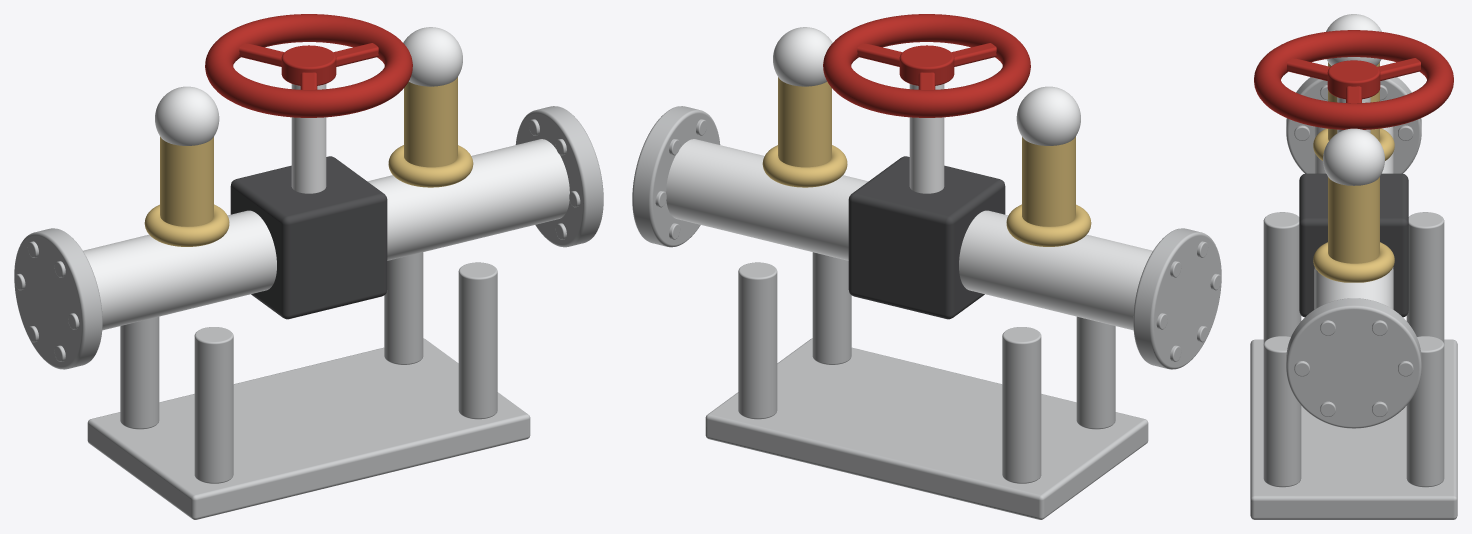
File: valve_manifold.glb
3 renders of one model, left to right at view 1: azimuth 30°, elevation 25°; view 2: azimuth 150°, elevation 25°; view 3: azimuth 270°, elevation 25°, orthographic. The views are drawn at different scales.
Visible parts, largest first — view 1: mount_plate, main_pipe, valve_body, handwheel_rim, flange_0, standoff_1, standoff_0, flange_1, riser_0, riser_1, standoff_2, standoff_3 (+8 smaller); view 2: mount_plate, main_pipe, valve_body, handwheel_rim, flange_0, standoff_3, standoff_2, flange_1, riser_0, riser_1, standoff_0, standoff_1 (+8 smaller); view 3: mount_plate, flange_1, handwheel_rim, valve_body, standoff_1, standoff_3, standoff_0, standoff_2, riser_1, flange_0, riser_cap_1, main_pipe (+8 smaller).
Boxes of the visible parts, left/top/right/bottom form: mount_plate: left=87, top=338, right=530, bottom=519; main_pipe: left=83, top=139, right=569, bottom=330; valve_body: left=230, top=156, right=387, bottom=319; handwheel_rim: left=205, top=14, right=412, bottom=117; flange_0: left=14, top=228, right=102, bottom=369; standoff_1: left=458, top=262, right=497, bottom=419; standoff_0: left=194, top=327, right=233, bottom=483; flange_1: left=515, top=106, right=603, bottom=247; riser_0: left=160, top=136, right=213, bottom=226; riser_1: left=404, top=77, right=457, bottom=167; standoff_2: left=120, top=316, right=159, bottom=429; standoff_3: left=384, top=252, right=423, bottom=364; mount_plate: left=705, top=338, right=1148, bottom=519; main_pipe: left=666, top=139, right=1152, bottom=330; valve_body: left=848, top=156, right=1005, bottom=319; handwheel_rim: left=823, top=14, right=1030, bottom=117; flange_0: left=1133, top=228, right=1221, bottom=369; standoff_3: left=738, top=262, right=777, bottom=419; standoff_2: left=1002, top=327, right=1041, bottom=483; flange_1: left=632, top=106, right=720, bottom=247; riser_0: left=1022, top=136, right=1075, bottom=226; riser_1: left=778, top=77, right=831, bottom=167; standoff_0: left=1076, top=316, right=1115, bottom=429; standoff_1: left=812, top=252, right=851, bottom=364; mount_plate: left=1250, top=339, right=1457, bottom=519; flange_1: left=1286, top=298, right=1421, bottom=428; handwheel_rim: left=1254, top=30, right=1453, bottom=129; valve_body: left=1299, top=173, right=1408, bottom=317; standoff_1: left=1263, top=336, right=1301, bottom=487; standoff_3: left=1406, top=336, right=1444, bottom=487; standoff_0: left=1263, top=212, right=1301, bottom=343; standoff_2: left=1406, top=212, right=1444, bottom=343; riser_1: left=1328, top=177, right=1379, bottom=263; flange_0: left=1286, top=77, right=1421, bottom=173; riser_cap_1: left=1323, top=128, right=1384, bottom=185; main_pipe: left=1314, top=126, right=1393, bottom=309.
Bounding box in the file's own units: 0.312 × 0.2192 × 0.11.
